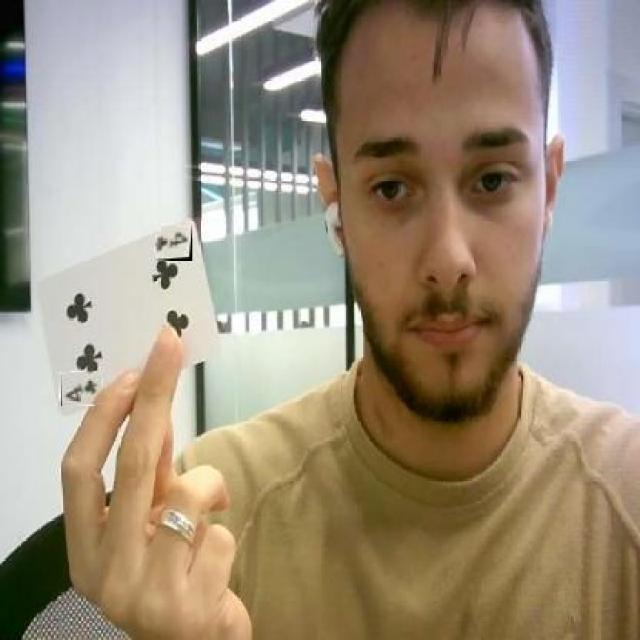4C: (60, 372, 103, 406), (156, 225, 192, 260)
